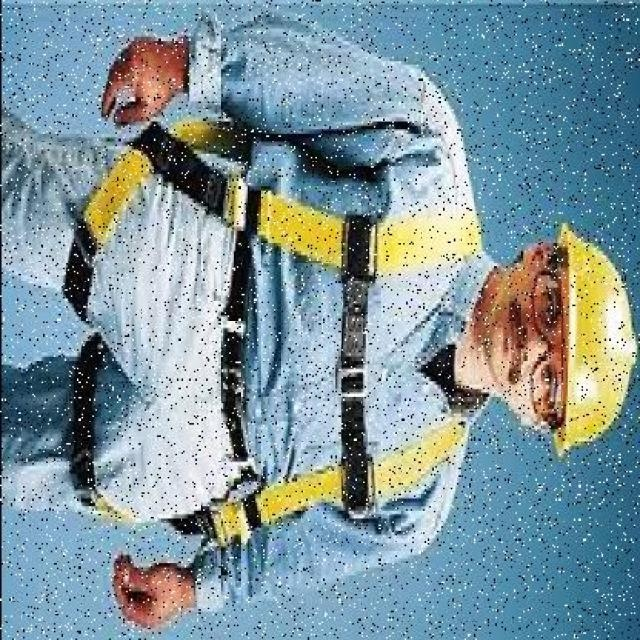Arnes_seguridad: (60, 109, 483, 549)
